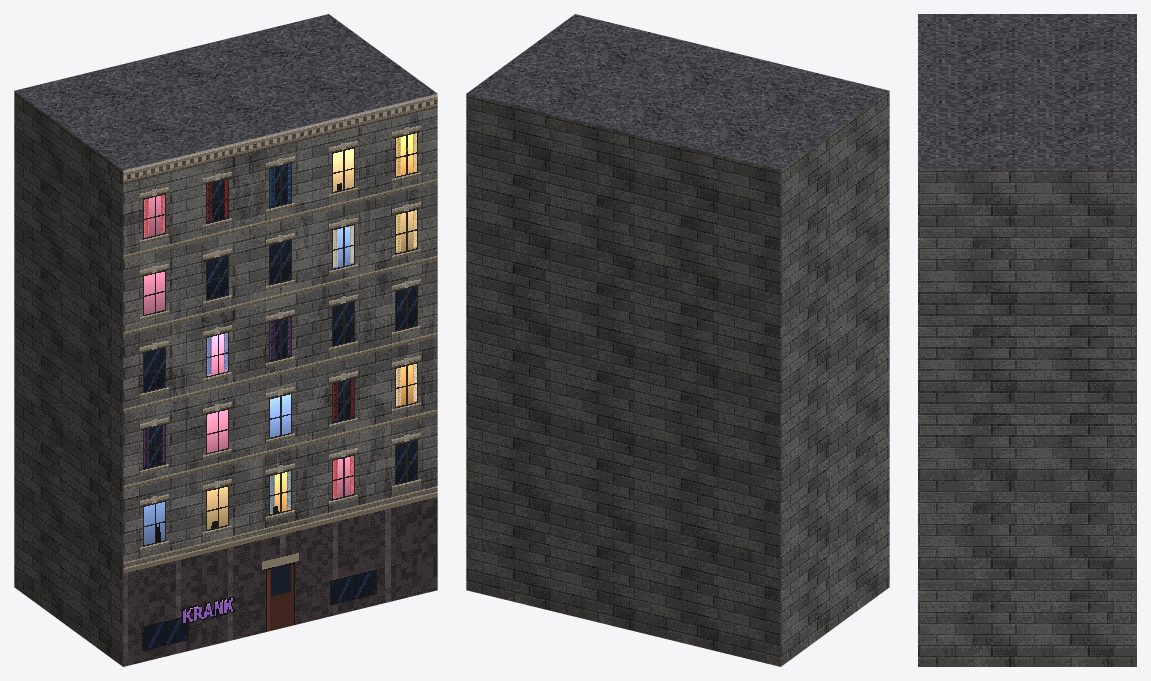
Rendered from Kulisse_3.glb.
3 renders of one model, left to right at view 1: azimuth 30°, elevation 25°; view 2: azimuth 150°, elevation 25°; view 3: azimuth 270°, elevation 25°, orthographic.
Visible parts, largest first — view 1: Kulisse_3; view 2: Kulisse_3; view 3: Kulisse_3.
Part boxes in pixels (left/top/right/bottom): Kulisse_3: left=14, top=14, right=437, bottom=666; Kulisse_3: left=466, top=14, right=889, bottom=666; Kulisse_3: left=918, top=14, right=1136, bottom=666.
Size of the model in its own units: 15 by 22.62 by 9.
3 materials, 3 textured.
